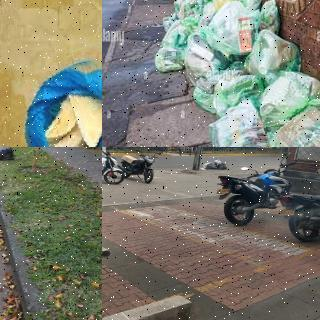Garbage: (21, 51, 102, 147), (257, 65, 320, 121), (207, 99, 279, 147), (241, 27, 303, 82), (180, 29, 232, 92), (202, 2, 255, 56), (210, 69, 269, 116), (149, 17, 198, 73), (265, 103, 320, 147), (0, 147, 16, 162), (217, 161, 228, 170), (207, 162, 218, 169), (202, 161, 211, 169), (213, 159, 222, 164)
